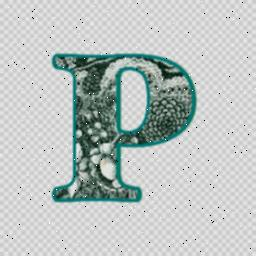p: (47, 50, 201, 208)
